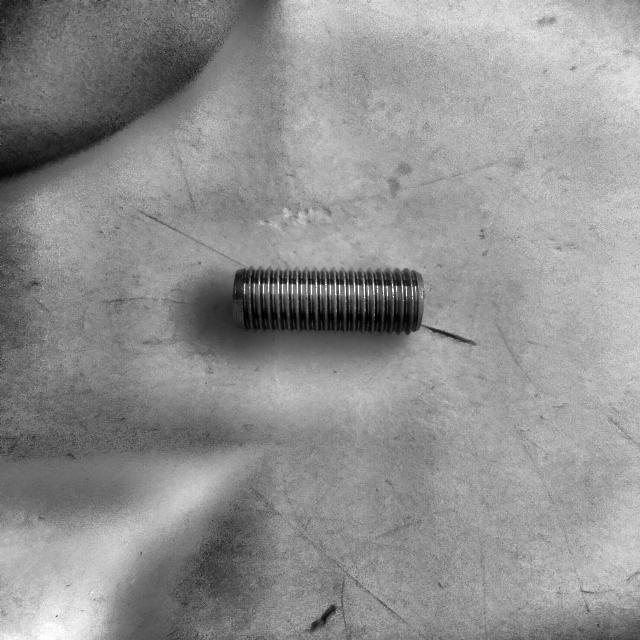Normal: (231, 265, 426, 336)
